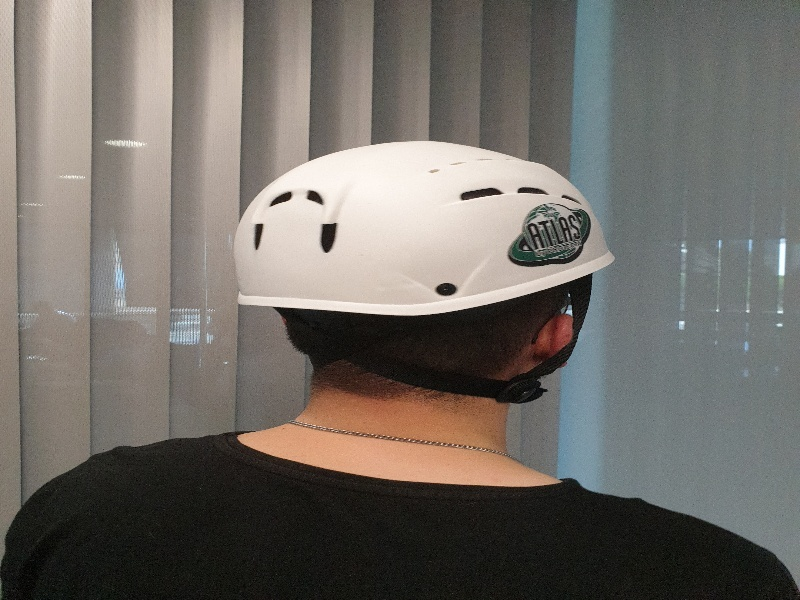baret: (232, 140, 618, 319)
